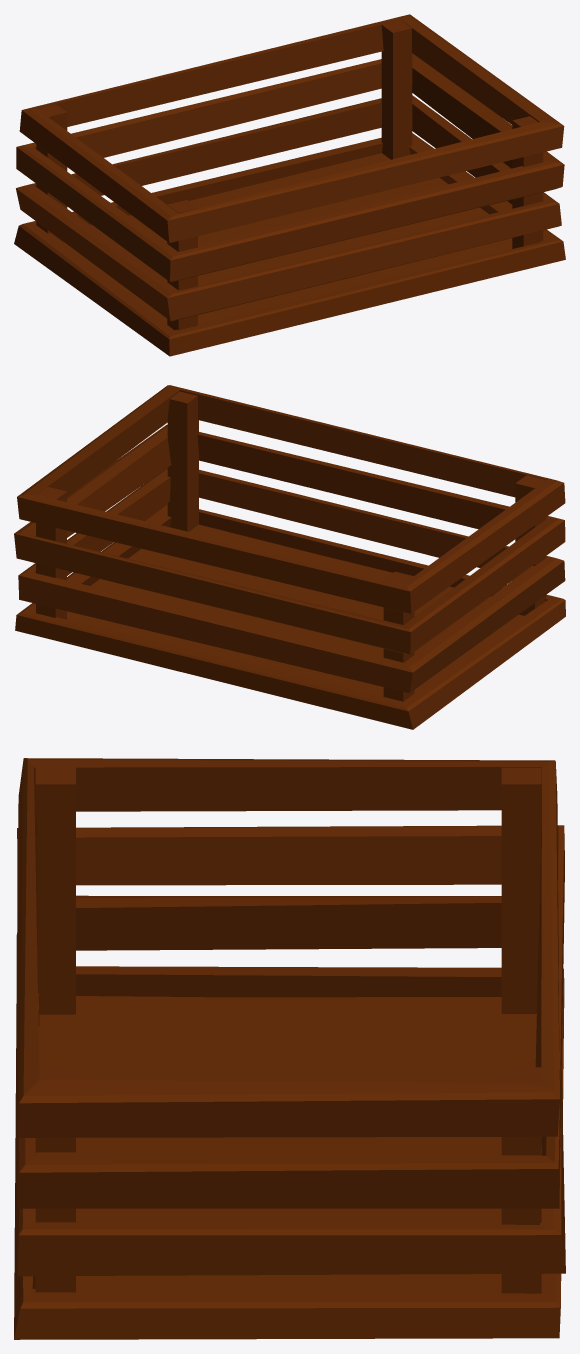
The picture shows the model from 3 angles, top to bottom: view 1: azimuth 30°, elevation 25°; view 2: azimuth 150°, elevation 25°; view 3: azimuth 270°, elevation 25°; orthographic projection. The views are drawn at different scales.
Parts seen in each view (by area): view 1: Cube; view 2: Cube; view 3: Cube.
Part boxes in pixels (x1,y1,x2,y2): Cube: [14, 14, 565, 356]; Cube: [14, 385, 565, 729]; Cube: [14, 758, 565, 1339].
Size of the model in its own units: 611 by 203 by 412.
Materials: 1 (1 with a texture image).
